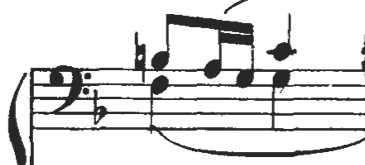bass_clef: (46, 58, 94, 120)
flat: (91, 88, 111, 131)
